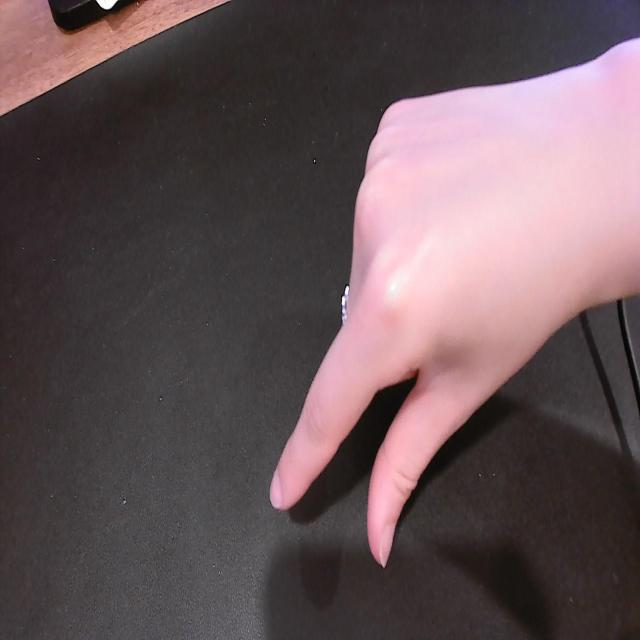Q: (264, 40, 625, 572)
